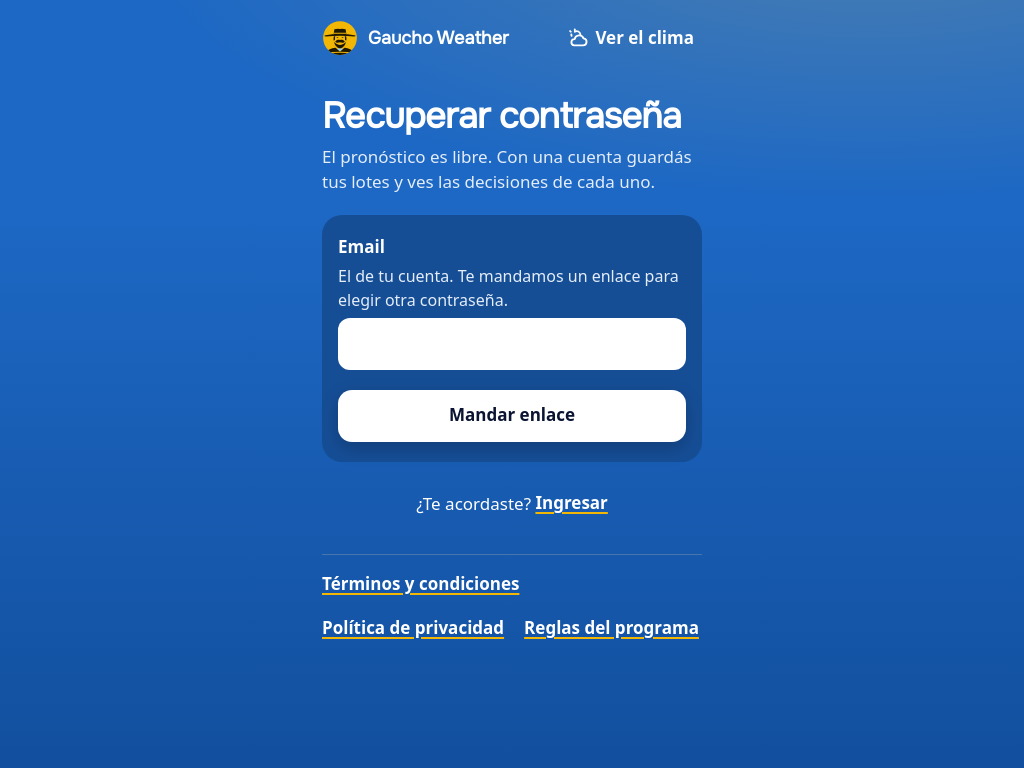
it: Recuperar la contraseña (S5) › asks for the email and answers the same whether or not it has an account
Type "alguien@campo.com.ar" into the field labelled "Email" at (512, 344), box [338,318,686,370]
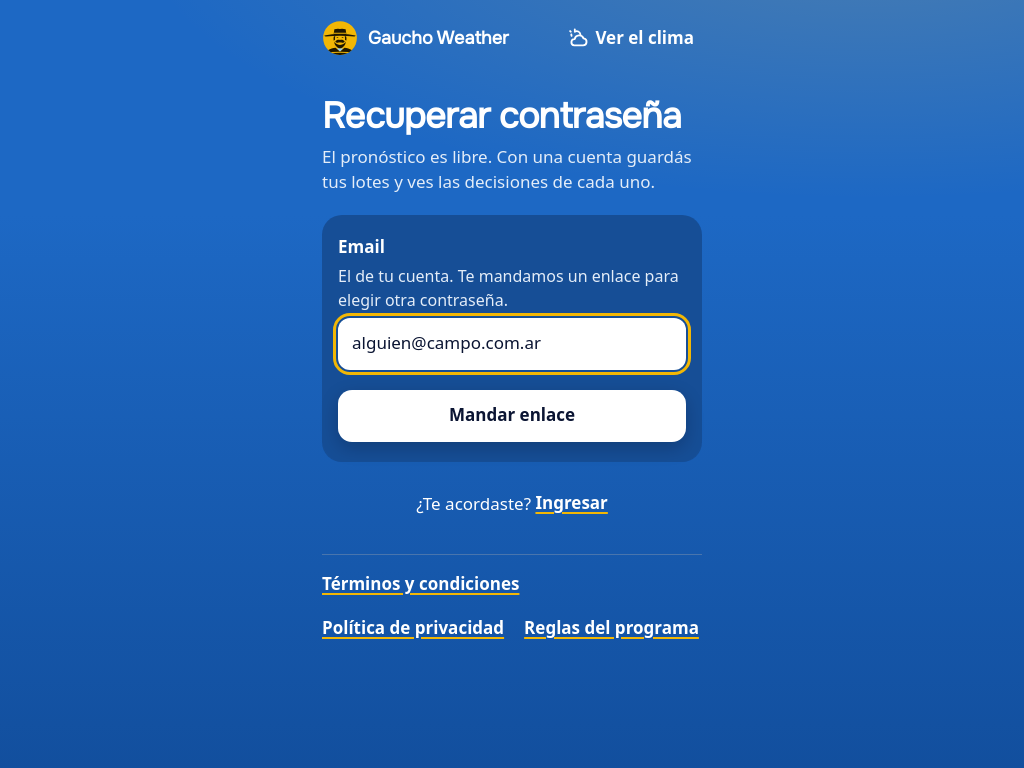
Click the button "Mandar enlace" at (512, 416), box [338,390,686,442]
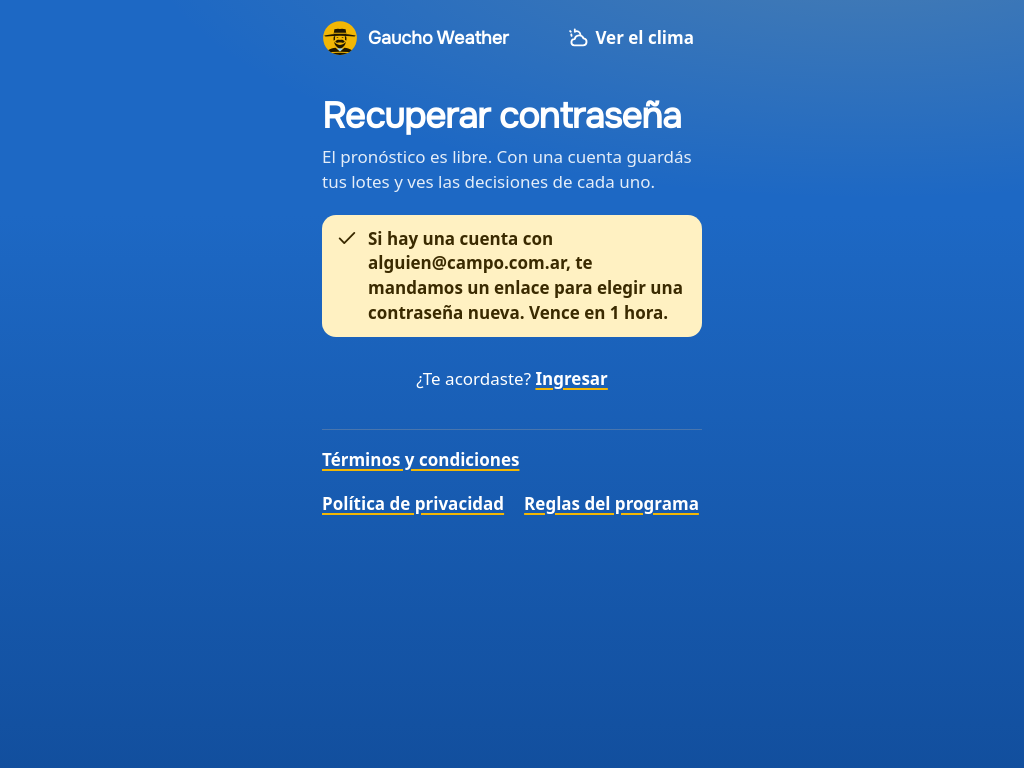
expect the text "Si hay una cuenta con alguien@campo.com.ar, te mandamos un enlace para elegir una contraseña nueva. Vence en 1 hora." is shown: met, box [368,227,688,325]
